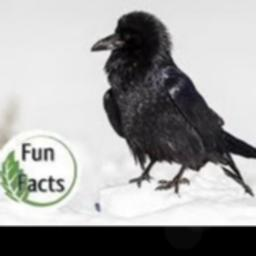Crow: (90, 11, 256, 197)
